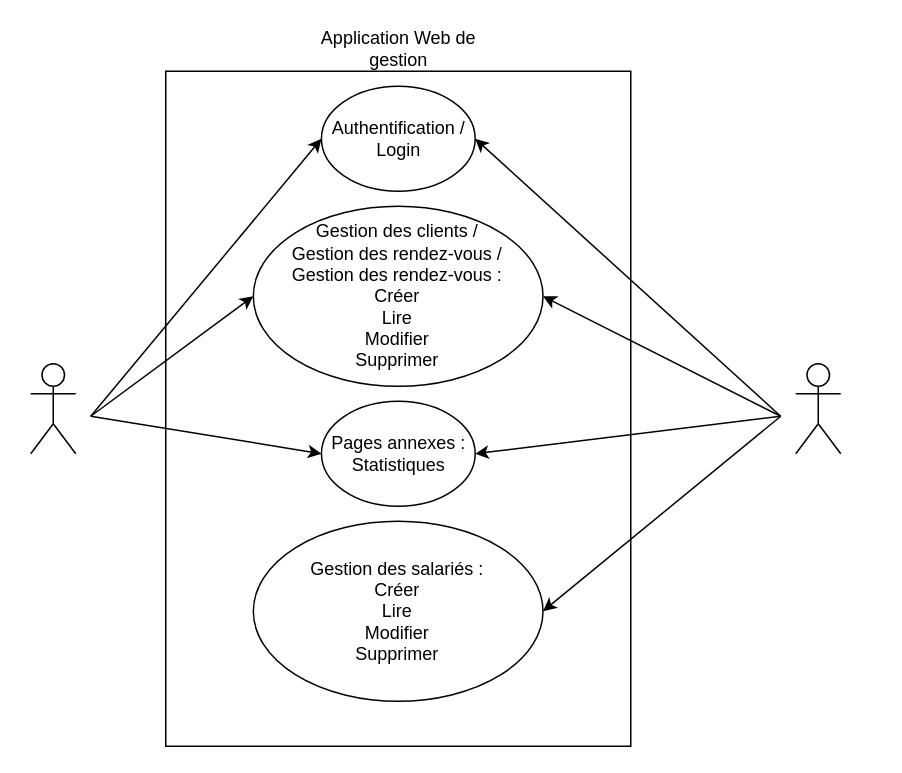
This 902x773 diagram has some shape labels left out. Here are the shapes that lost their labels. From the top down, the box of each, then its label:
(29, 362, 76, 454): Salarié
(794, 362, 841, 454): Administrateur
